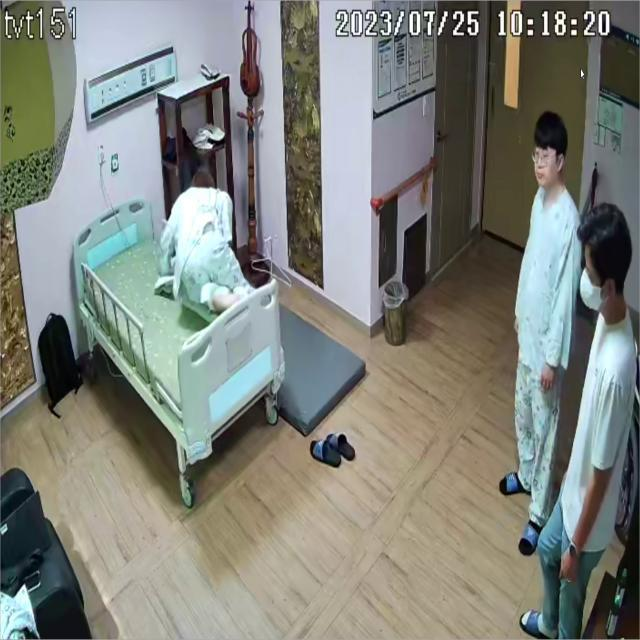fall: (157, 169, 252, 313)
patient: (500, 109, 580, 556), (158, 171, 252, 311)
